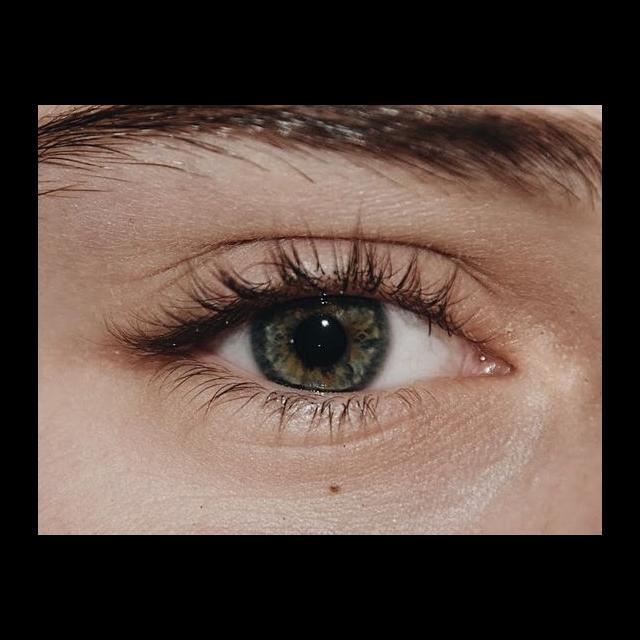eye: (188, 291, 466, 393)
iris: (251, 293, 392, 389)
